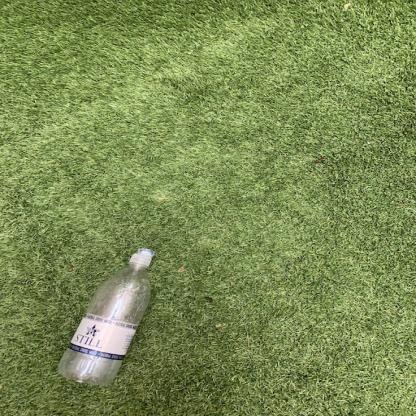trash: (58, 244, 154, 385)
